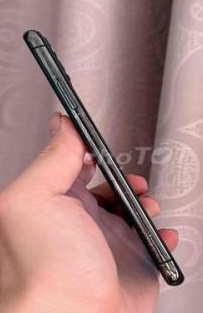scratch: (68, 104, 179, 282)
